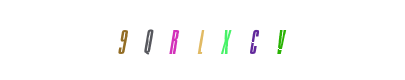9: (83, 0, 163, 80)
C: (196, 0, 276, 80)
L: (155, 0, 235, 80)
Q: (142, 0, 222, 80)
R: (151, 0, 231, 80)
V: (241, 0, 321, 80)
X: (162, 0, 242, 80)
